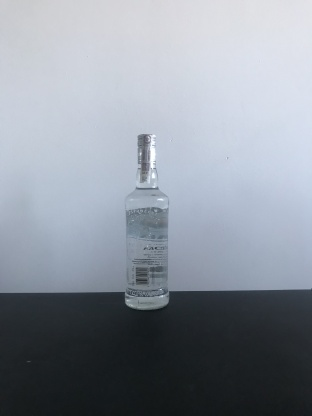nakretka: (135, 130, 158, 167)
